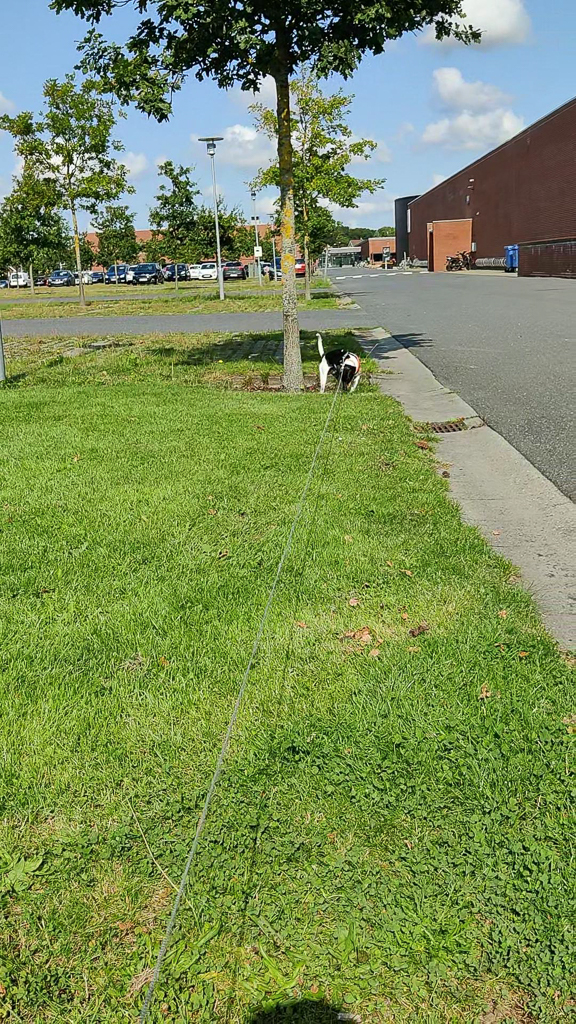Dog: (314, 330, 365, 398)
